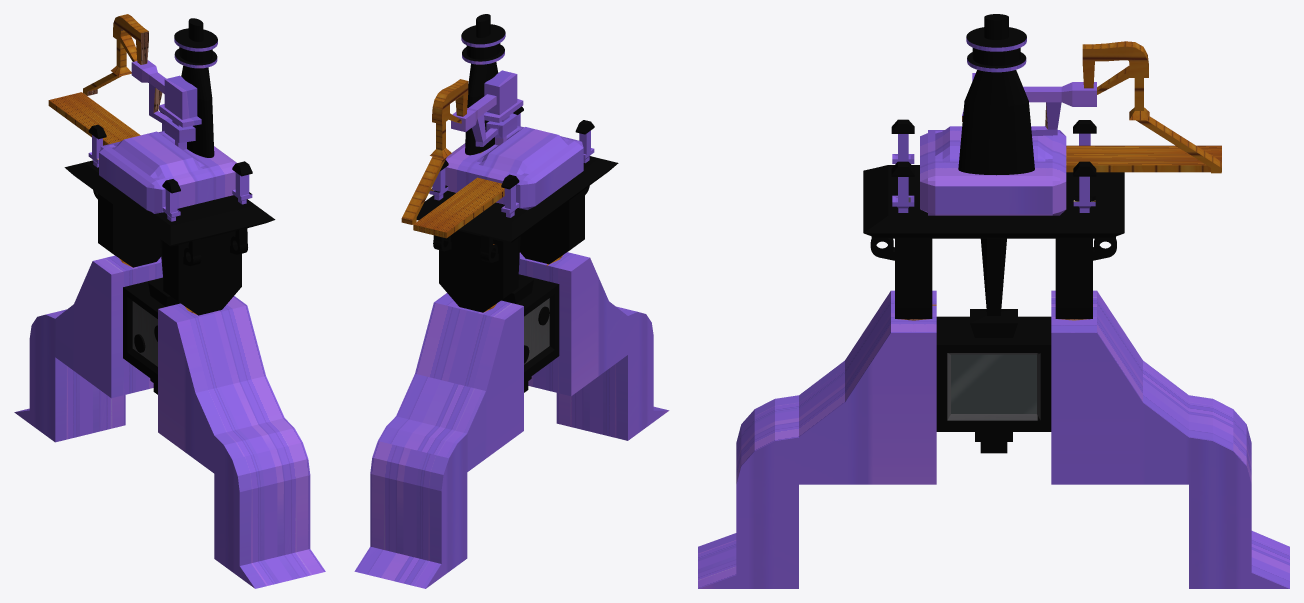
File: Level3Machine1Textured .fbx
The picture shows the model from 3 angles, left to right: view 1: azimuth 30°, elevation 25°; view 2: azimuth 150°, elevation 25°; view 3: azimuth 270°, elevation 25°; orthographic projection. The views are drawn at different scales.
Parts seen in each view (by area): view 1: Cylinder.002; view 2: Cylinder.002; view 3: Cylinder.002.
Part boxes in pixels (box(x1,y1,x2,y2)): Cylinder.002: box(14, 14, 325, 588); Cylinder.002: box(354, 14, 669, 588); Cylinder.002: box(698, 14, 1289, 588).
Size of the model in its own units: 38.61 by 163 by 154.
